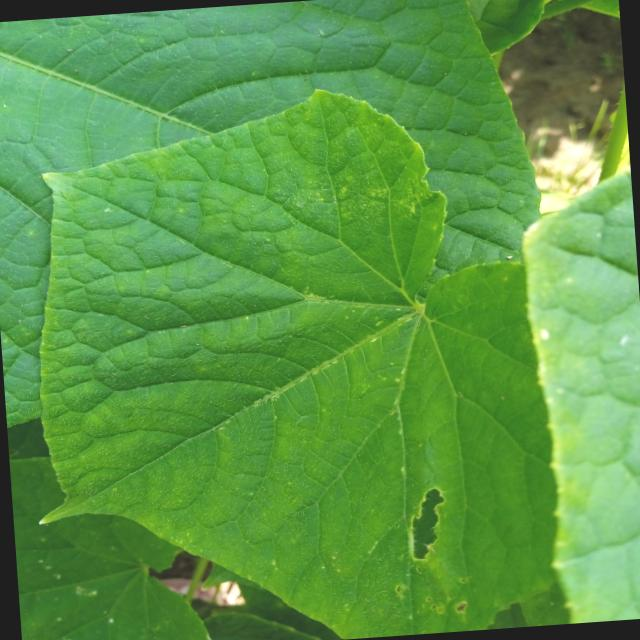cucumber_healthy: (7, 66, 549, 640), (518, 165, 640, 624)
